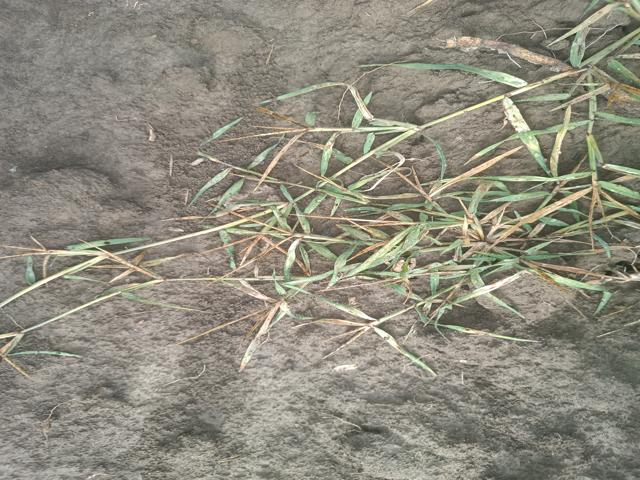bad weed: (61, 29, 640, 361)
